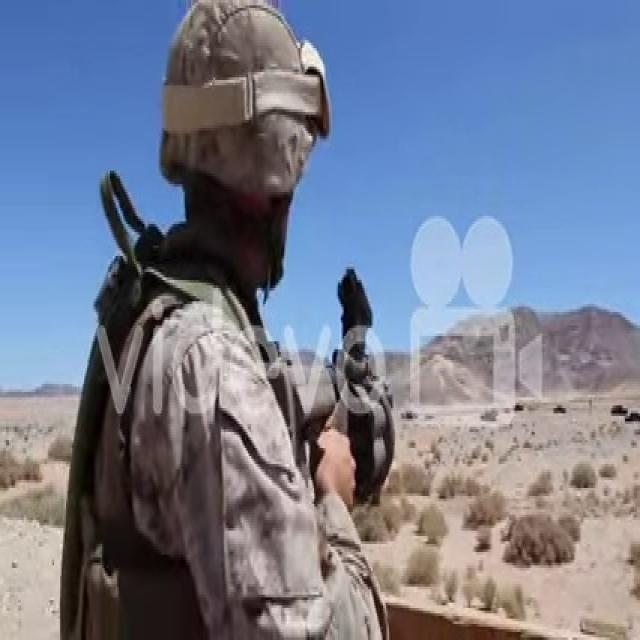bazooka: (274, 268, 403, 504)
